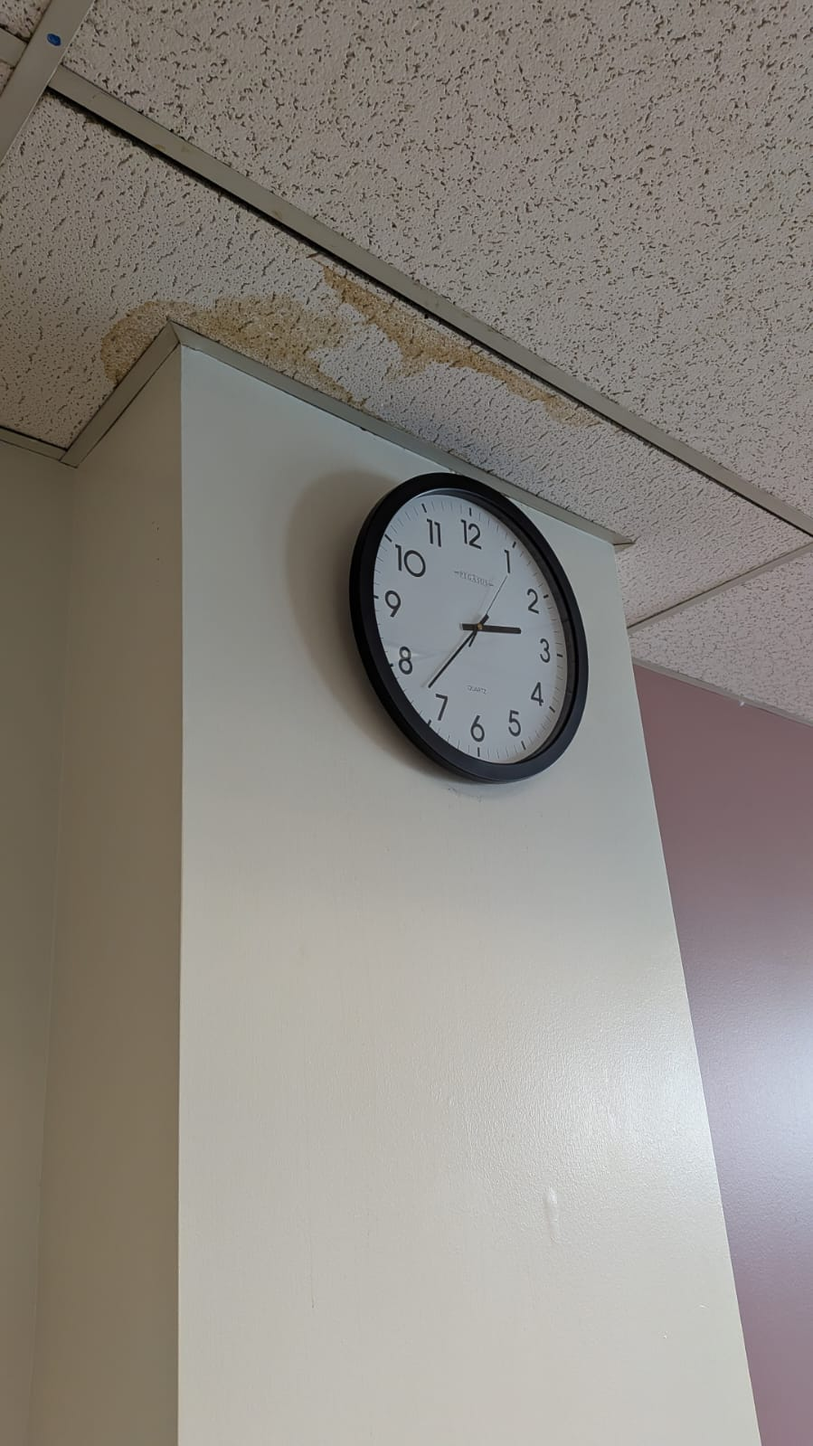clock: (350, 473, 587, 783)
